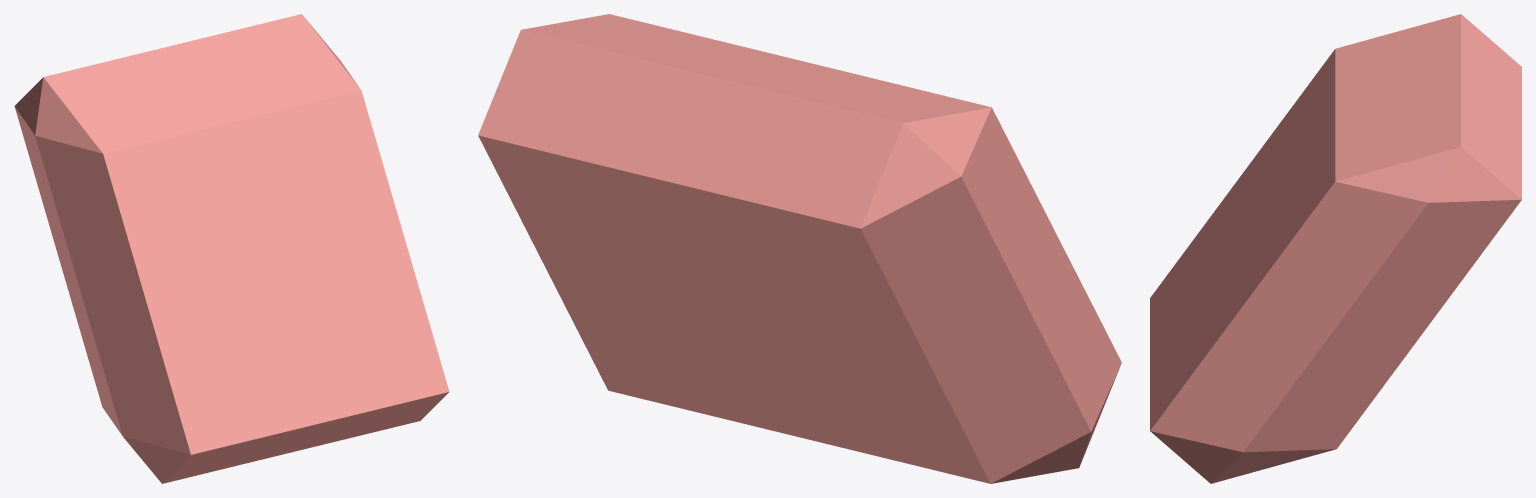
Rendered from kn-pillow-long.glb.
The picture shows the model from 3 angles, left to right: view 1: azimuth 30°, elevation 25°; view 2: azimuth 150°, elevation 25°; view 3: azimuth 270°, elevation 25°; orthographic projection. The views are drawn at different scales.
Visible parts, largest first — view 1: pillowLong(Clone); view 2: pillowLong(Clone); view 3: pillowLong(Clone).
Boxes of the visible parts, box(x1,y1,x2,y2) form: pillowLong(Clone): box(14, 14, 449, 483); pillowLong(Clone): box(478, 14, 1121, 483); pillowLong(Clone): box(1150, 14, 1521, 483).
Size of the model in its own units: 1 by 1 by 1.
